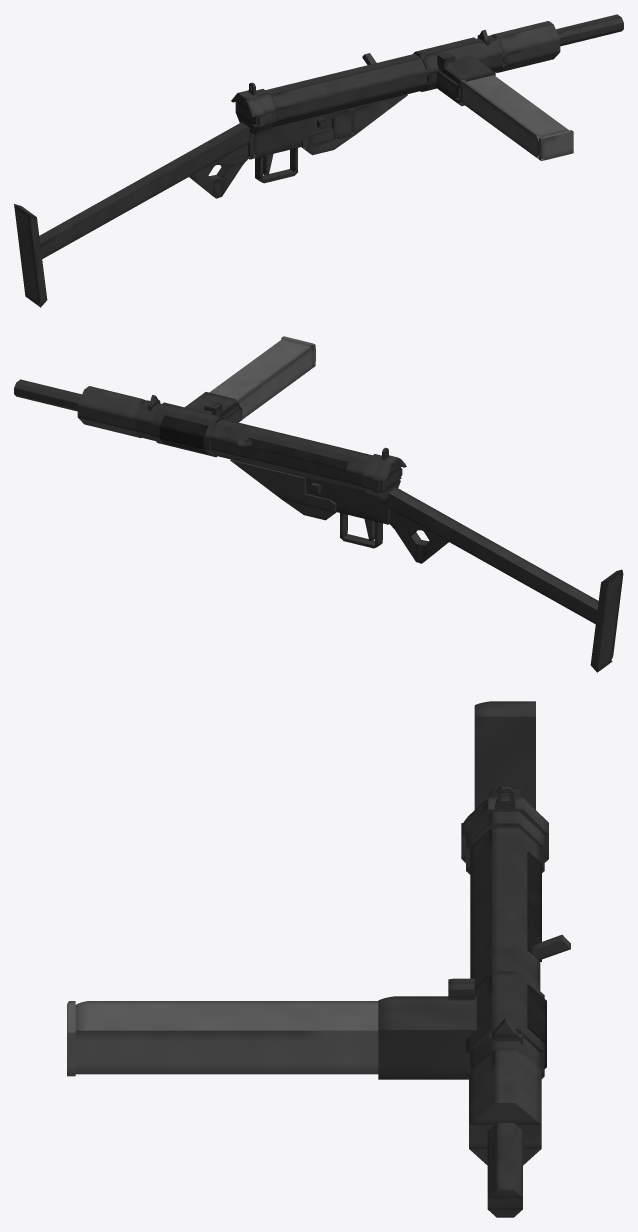
File: stenmk2.obj
3 views of the same model, one above another, from view 1: azimuth 30°, elevation 25°; view 2: azimuth 150°, elevation 25°; view 3: azimuth 270°, elevation 25° (orthographic). The views are drawn at different scales.
Visible parts, largest first — view 1: gunModel24, ammoModel0, gunModel8, gunModel6, gunModel36, gunModel0, gunModel15, gunModel9, gunModel38, gunModel1, gunModel7, ammoModel1 (+7 smaller); view 2: gunModel24, ammoModel0, gunModel8, gunModel36, gunModel6, gunModel0, gunModel15, gunModel9, gunModel48, gunModel7, gunModel1, gunModel16 (+5 smaller); view 3: ammoModel0, gunModel8, gunModel38, gunModel36, gunModel15, gunModel9, gunModel43, gunModel48, gunModel13, gunModel16, gunModel47.
Boxes of the visible parts, x1,y1,x2,y2 form: gunModel24: (39, 122, 249, 258); ammoModel0: (458, 75, 568, 159); gunModel8: (265, 35, 502, 109); gunModel6: (270, 54, 502, 120); gunModel36: (14, 204, 47, 307); gunModel0: (249, 112, 337, 158); gunModel15: (491, 21, 559, 53); gunModel9: (413, 37, 486, 72); gunModel38: (435, 55, 495, 106); gunModel1: (350, 94, 407, 135); gunModel7: (272, 66, 502, 127); ammoModel1: (539, 130, 573, 161); gunModel24: (388, 487, 598, 623); ammoModel0: (209, 338, 313, 419); gunModel8: (135, 400, 371, 474); gunModel36: (590, 569, 623, 672); gunModel6: (135, 419, 361, 485); gunModel0: (306, 478, 384, 523); gunModel15: (78, 386, 145, 418); gunModel9: (151, 402, 224, 438); gunModel48: (246, 437, 348, 470); gunModel7: (135, 431, 365, 492); gunModel1: (230, 459, 287, 500); gunModel16: (77, 405, 134, 430); ammoModel0: (75, 1001, 378, 1074); gunModel8: (470, 827, 540, 1069); gunModel38: (378, 996, 476, 1079); gunModel36: (474, 701, 535, 809); gunModel15: (469, 1047, 541, 1124); gunModel9: (466, 971, 544, 1052); gunModel43: (487, 1123, 522, 1197); gunModel48: (527, 852, 541, 961); gunModel13: (466, 811, 544, 846); gunModel16: (469, 1125, 541, 1148); gunModel47: (527, 985, 546, 1043).
Bounding box in the file's own units: 31.5 × 8.3 × 11.5.
